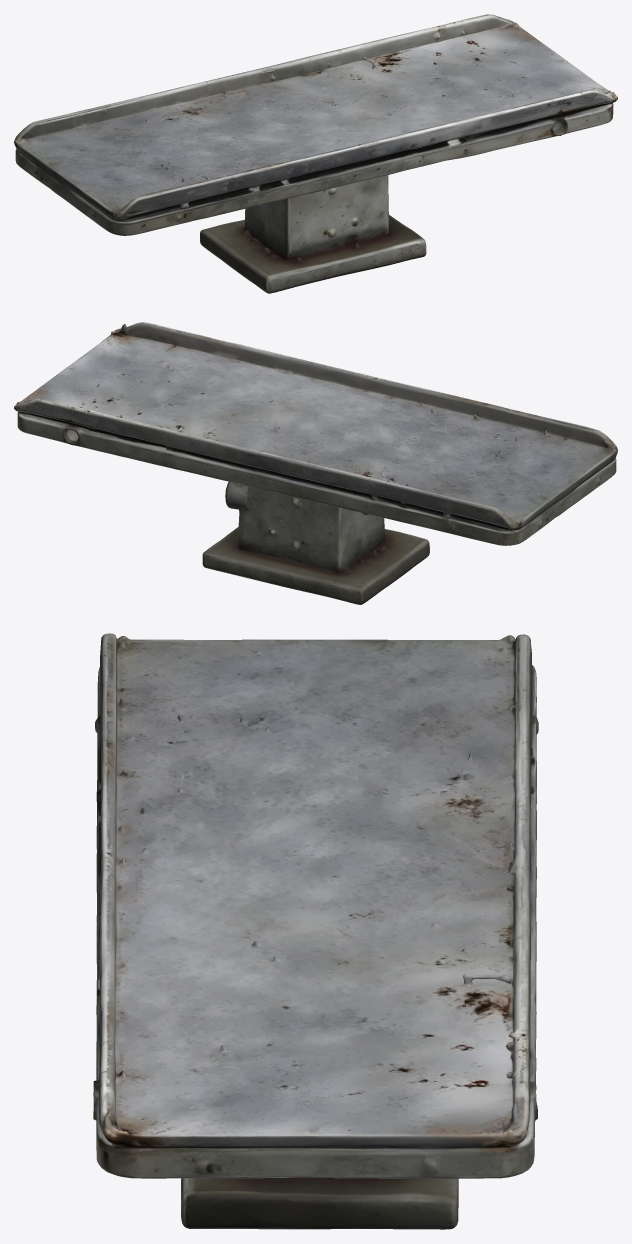
3 renders of one model, top to bottom at view 1: azimuth 30°, elevation 25°; view 2: azimuth 150°, elevation 25°; view 3: azimuth 270°, elevation 25°, orthographic. The views are drawn at different scales.
Visible parts, largest first — view 1: tripo_node_52ce5880-3e42-4988-a3f8-0ccdb25c37c9; view 2: tripo_node_52ce5880-3e42-4988-a3f8-0ccdb25c37c9; view 3: tripo_node_52ce5880-3e42-4988-a3f8-0ccdb25c37c9.
Part boxes in pixels (box(x1,y1,x2,y2)): tripo_node_52ce5880-3e42-4988-a3f8-0ccdb25c37c9: box(14, 14, 617, 293); tripo_node_52ce5880-3e42-4988-a3f8-0ccdb25c37c9: box(14, 322, 617, 604); tripo_node_52ce5880-3e42-4988-a3f8-0ccdb25c37c9: box(93, 633, 538, 1229).
Size of the model in its own units: 0.9936 by 0.2793 by 0.3782.
Materials: 1 (1 with a texture image).
